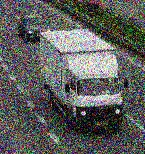truck: (39, 30, 122, 131)
